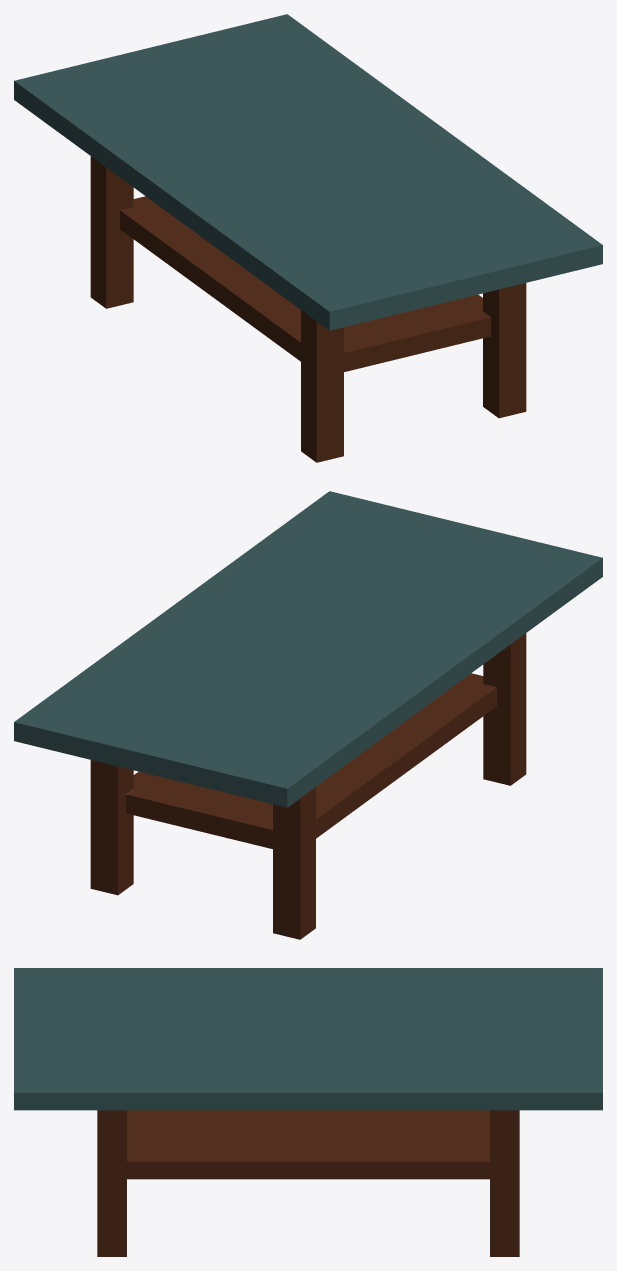
File: kleinerTisch.glb
3 views of the same model, one above another, from view 1: azimuth 30°, elevation 25°; view 2: azimuth 150°, elevation 25°; view 3: azimuth 270°, elevation 25° (orthographic). The views are drawn at different scales.
Visible parts, largest first — view 1: Cube.001, Cube.004; view 2: Cube.001, Cube.004; view 3: Cube.001, Cube.004.
Boxes of the visible parts, x1=… form: Cube.001: x1=14, y1=14, x2=602, y2=330; Cube.004: x1=90, y1=156, x2=526, y2=462; Cube.001: x1=14, y1=491, x2=602, y2=807; Cube.004: x1=90, y1=633, x2=526, y2=939; Cube.001: x1=14, y1=968, x2=602, y2=1110; Cube.004: x1=97, y1=1110, x2=519, y2=1256.
Size of the model in its own units: 3 by 2.01 by 6.
